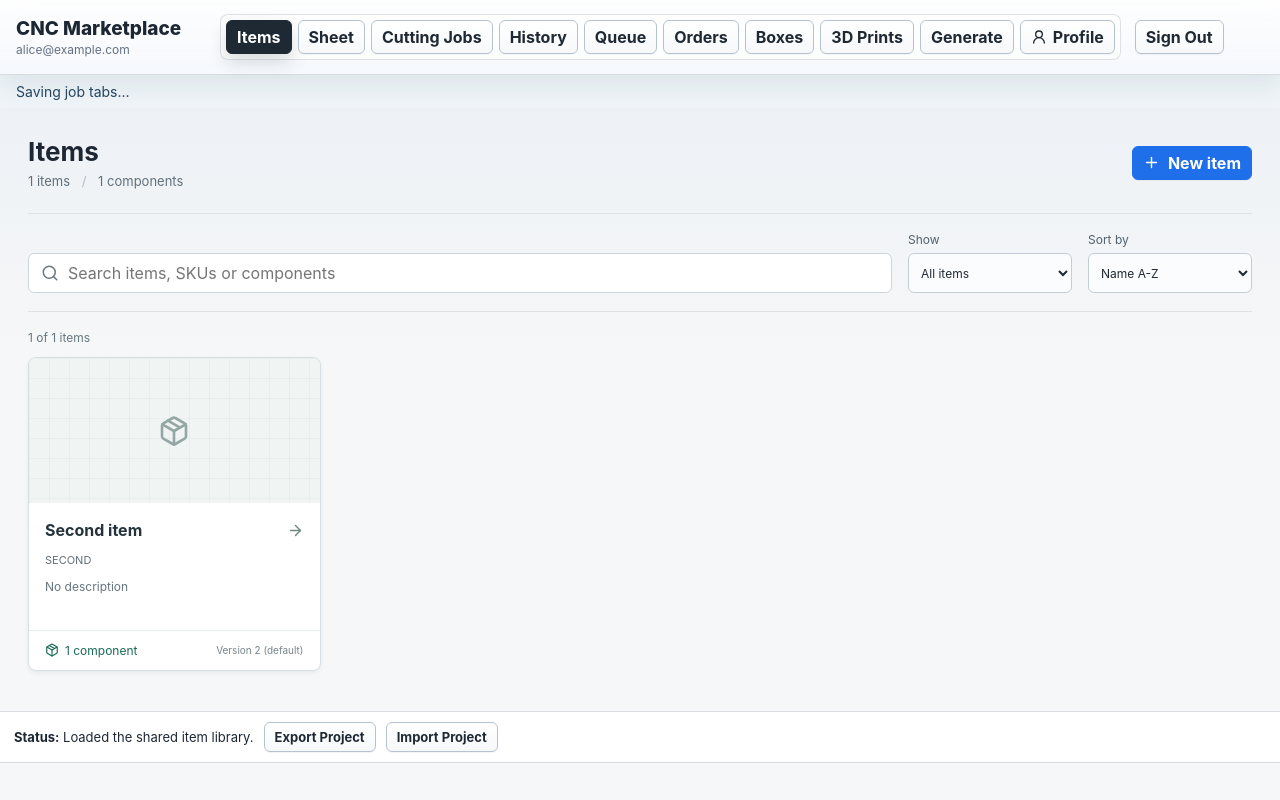
Test: account switching › loads a previous version on selection even when its components were not indexed at startup
Click the button with aria-label "Open Second item": (174, 431) [28,357,320,671]
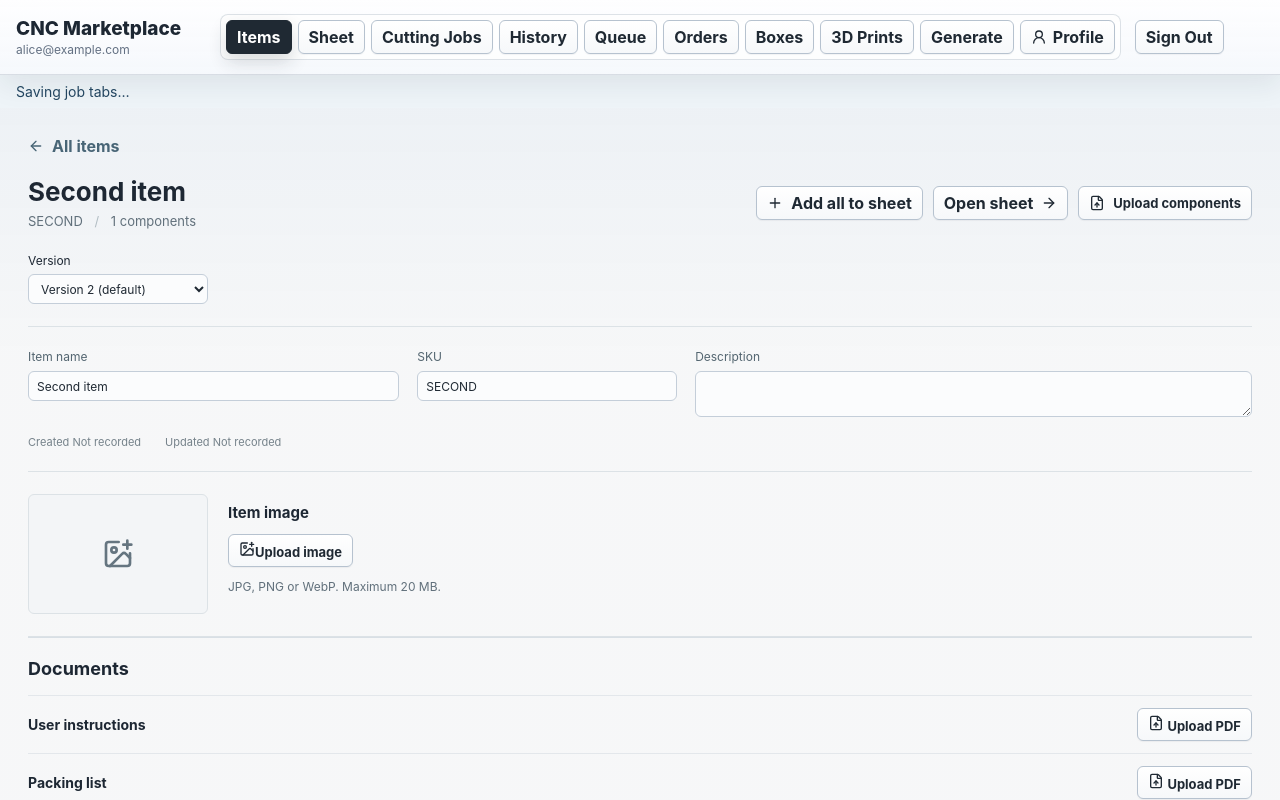
Select "Version 1 (previous)" in the dropdown named "Item version": (118, 289) [28,274,208,304]
(page scrolled)
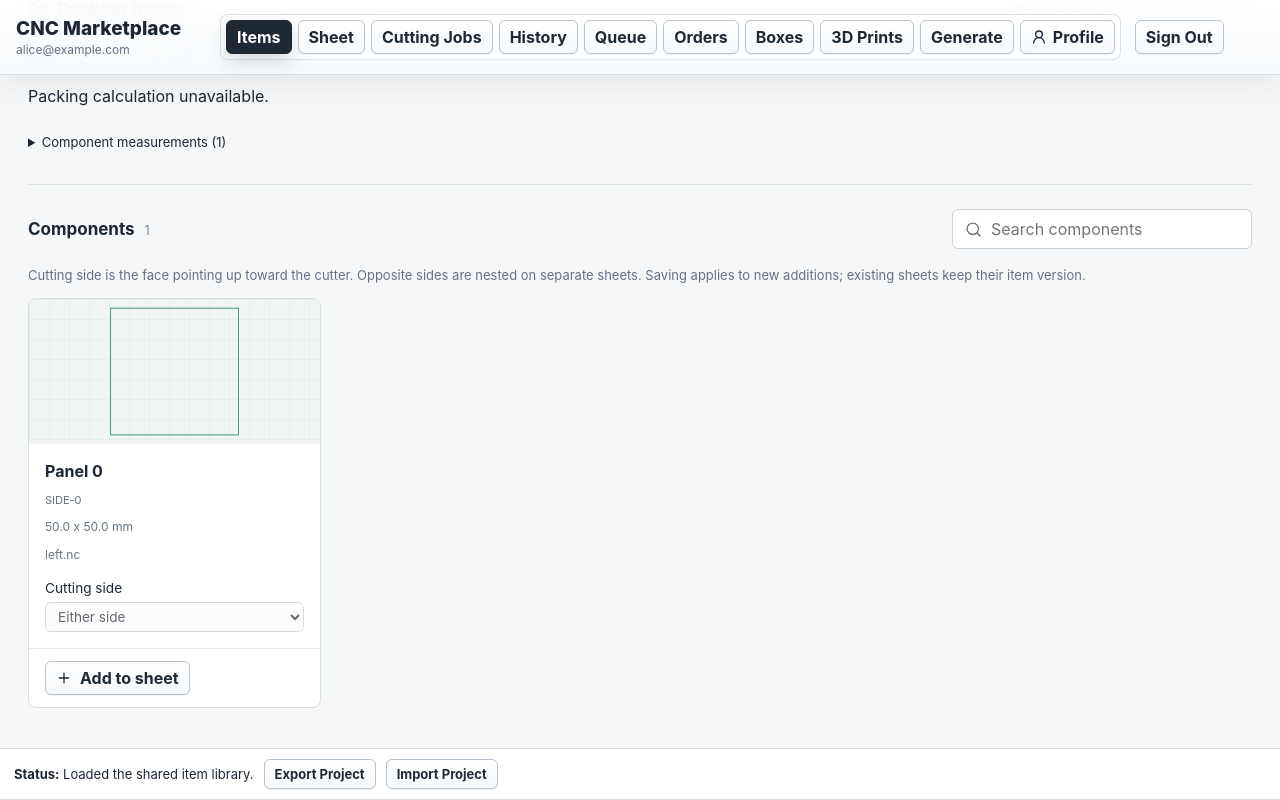
Expected: the heading "Panel 0" is shown, [45,461,103,481]
